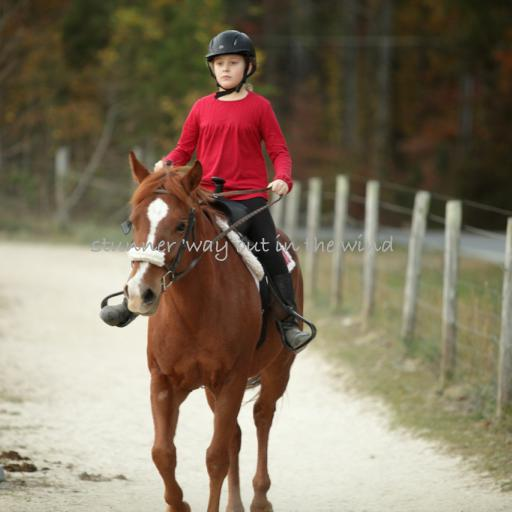Bradley Hand: (91, 234, 395, 261)
